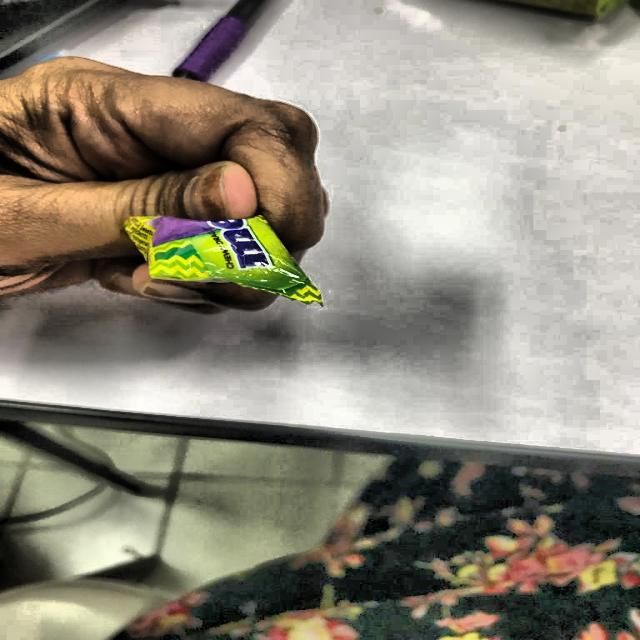Plastic: (123, 214, 353, 303)
